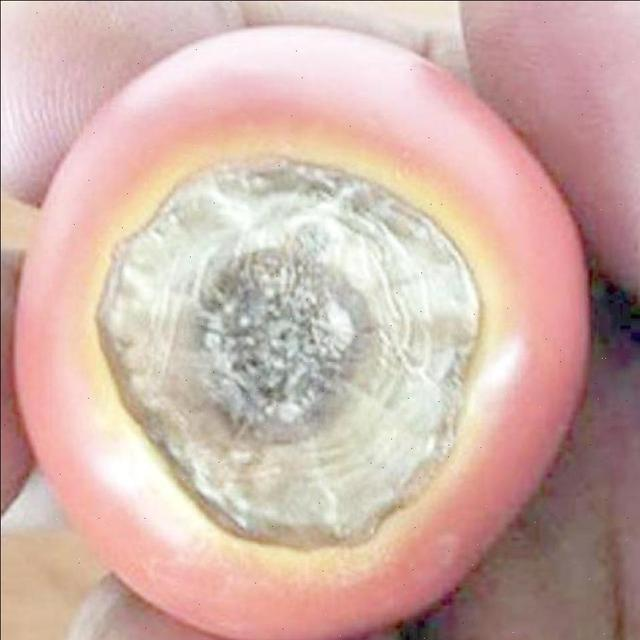Blossom End Rot Fruit: (62, 94, 325, 369)
